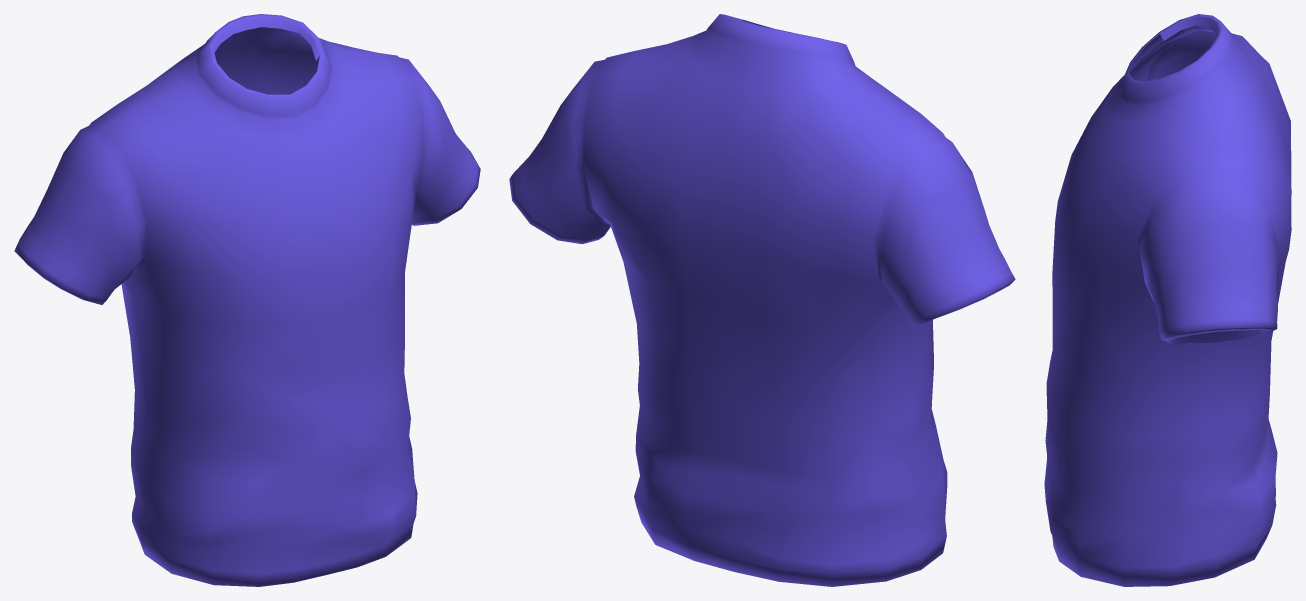
The model's file is Shirt_M.fbx.
3 renders of one model, left to right at view 1: azimuth 30°, elevation 25°; view 2: azimuth 150°, elevation 25°; view 3: azimuth 270°, elevation 25°, orthographic. The views are drawn at different scales.
Visible parts, largest first — view 1: Shirt_M; view 2: Shirt_M; view 3: Shirt_M.
Part boxes in pixels (x1,y1,x2,y2): Shirt_M: (14, 14, 480, 586); Shirt_M: (509, 14, 1015, 586); Shirt_M: (1044, 14, 1291, 586).
Size of the model in its own units: 59.72 by 63.83 by 28.22.
